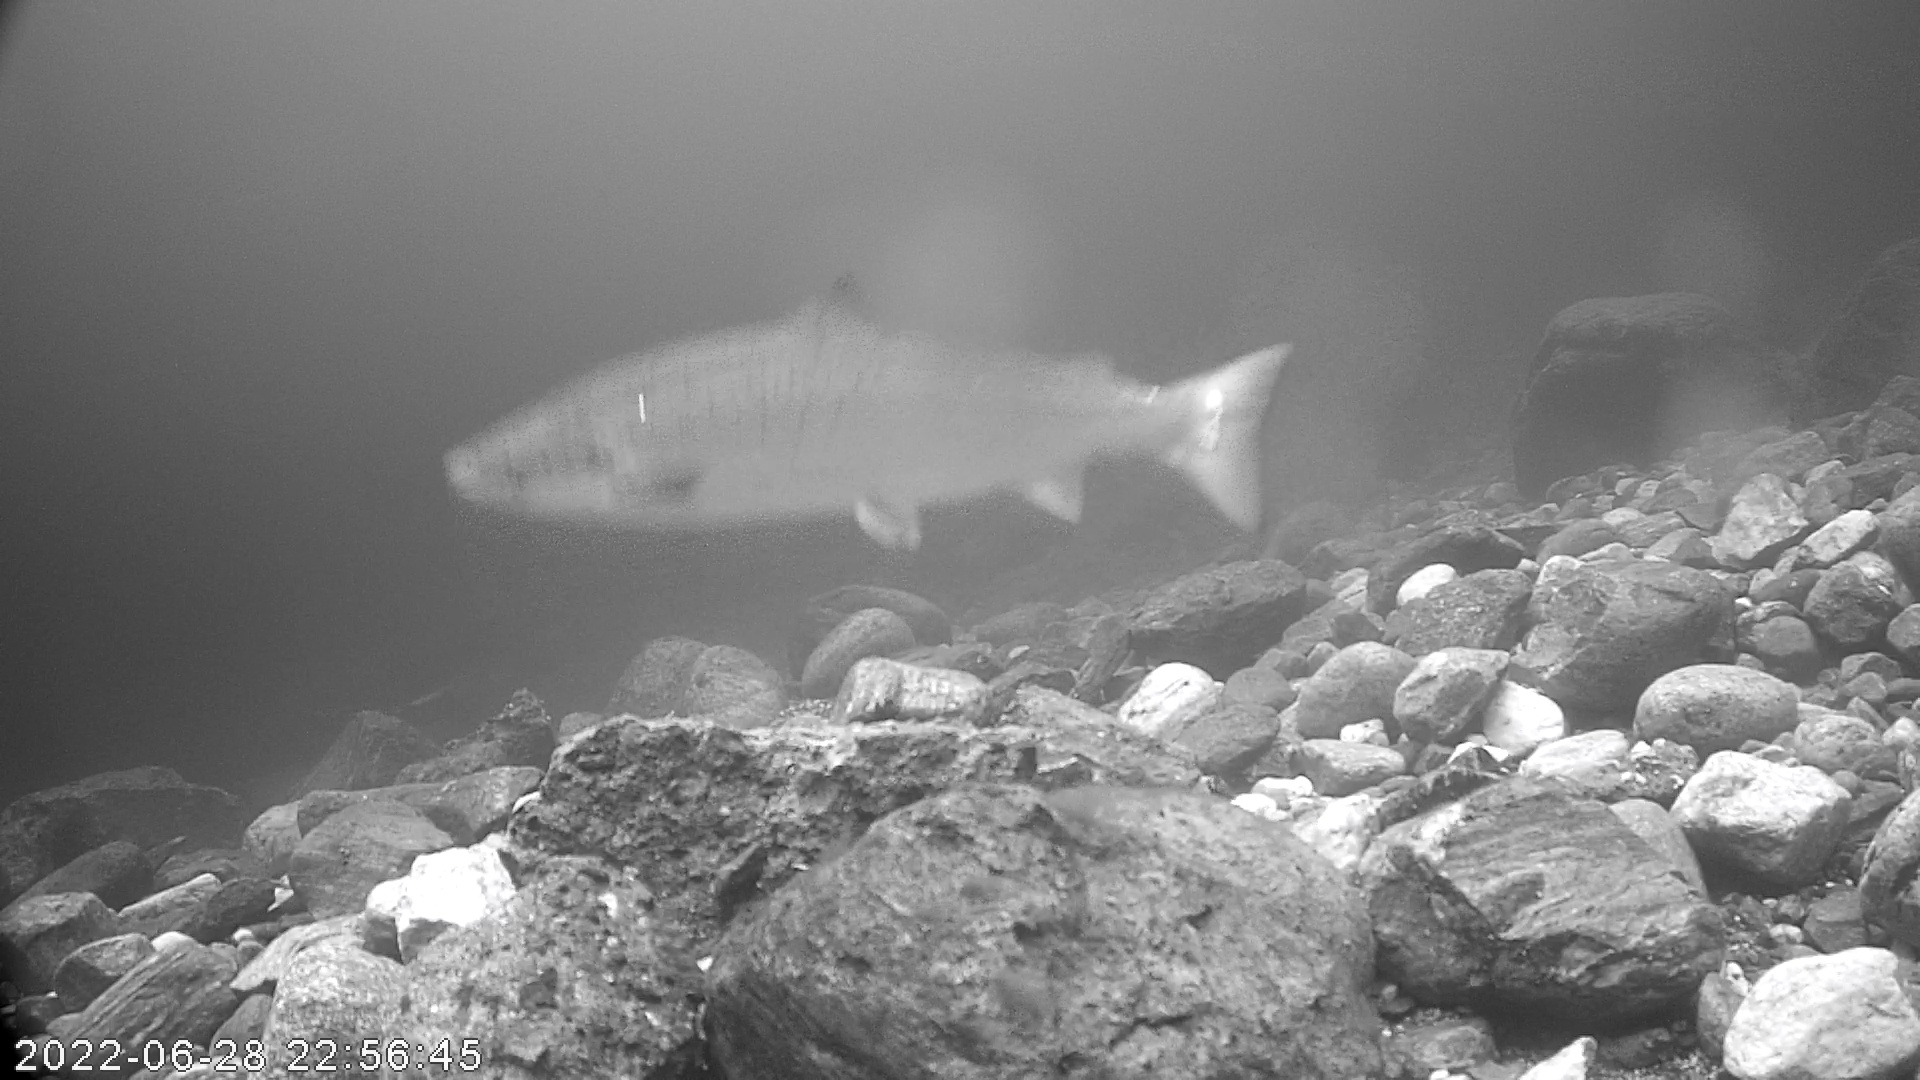salmon: (436, 178, 1311, 618)
